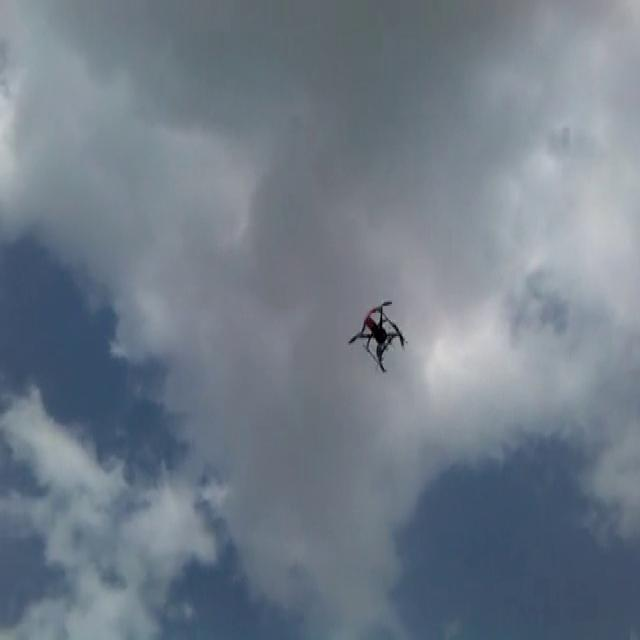drone: (346, 295, 405, 373)
